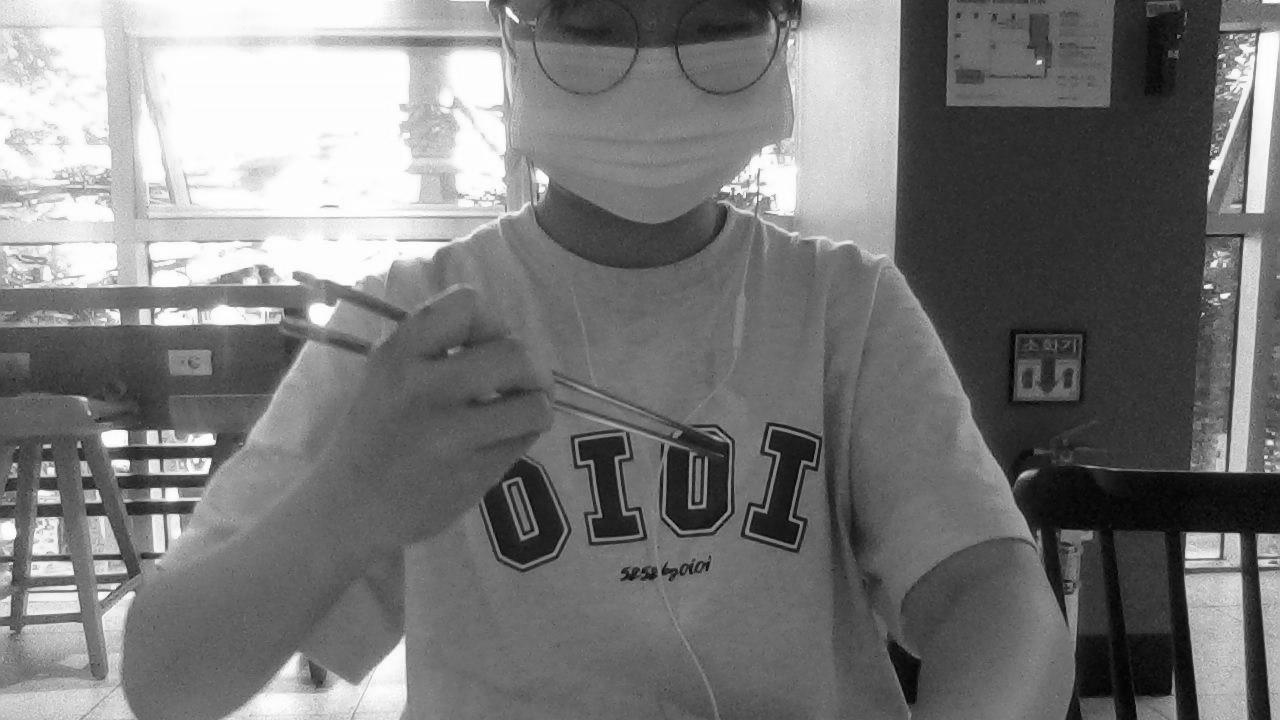chopstick: (291, 268, 735, 453), (275, 315, 706, 457)
hand: (329, 287, 554, 536)
